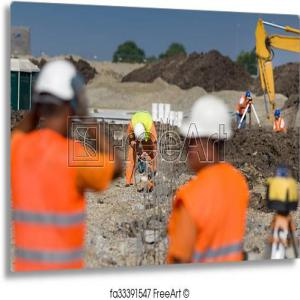blue: (275, 110, 281, 120), (246, 93, 252, 102)
white: (36, 61, 82, 134), (188, 96, 231, 166), (134, 122, 146, 143)
